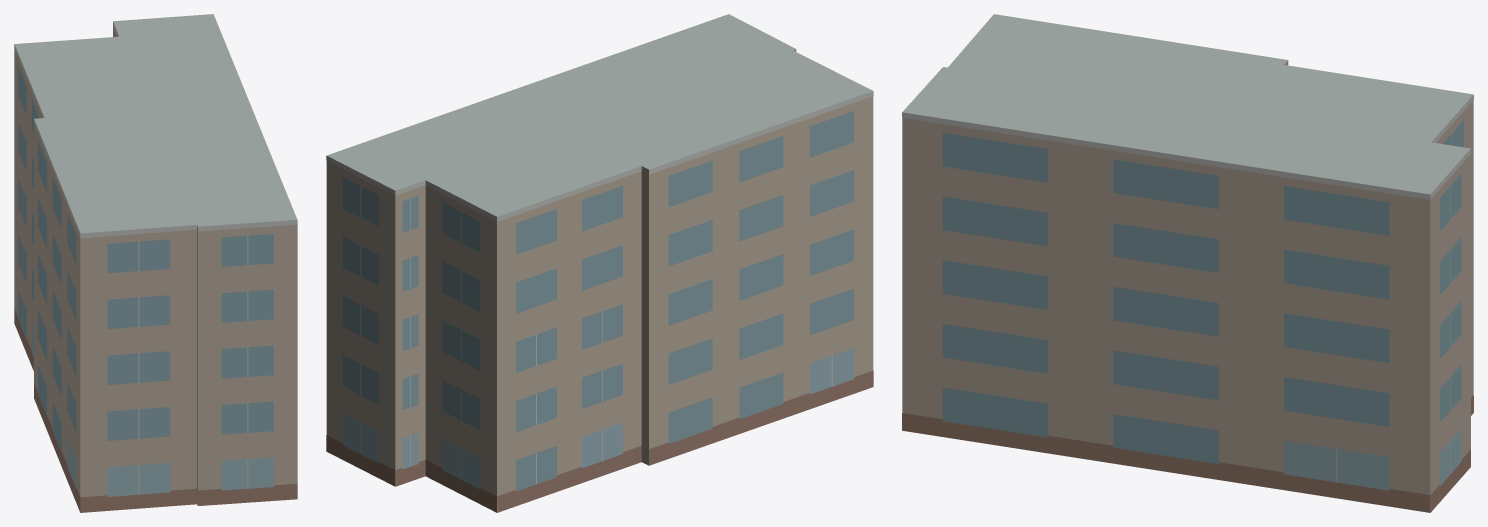
File: survey-upis-33010823.glb
3 views of the same model, side by side, from view 1: azimuth 30°, elevation 25°; view 2: azimuth 150°, elevation 25°; view 3: azimuth 270°, elevation 25° (orthographic). The views are drawn at different scales.
Visible parts, largest first — view 1: survey-upis-33010823.tmp; view 2: survey-upis-33010823.tmp; view 3: survey-upis-33010823.tmp.
Boxes of the visible parts, bbox=[...] form: survey-upis-33010823.tmp: bbox=[14, 14, 297, 512]; survey-upis-33010823.tmp: bbox=[326, 14, 873, 512]; survey-upis-33010823.tmp: bbox=[902, 14, 1473, 512].
Size of the model in its own units: 17.28 by 14.2 by 23.12.
